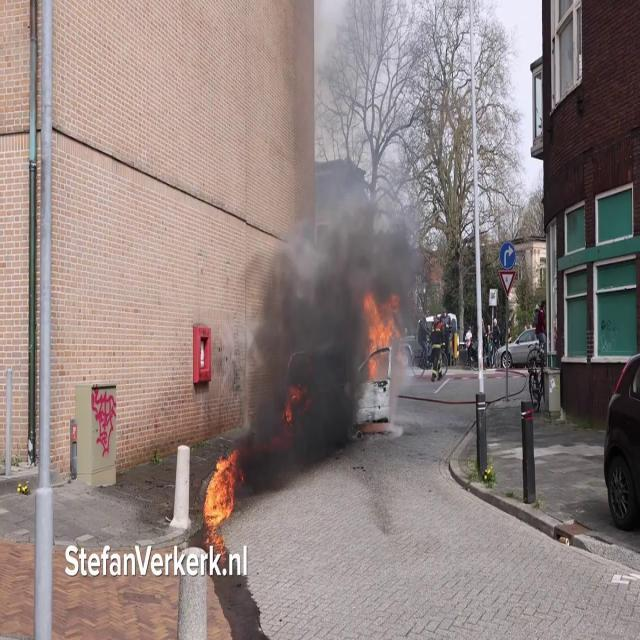Fire: (359, 290, 401, 378), (201, 448, 239, 545)
Smoke: (234, 75, 428, 473)
